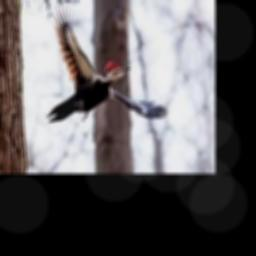Woodpecker: (47, 3, 168, 122)
